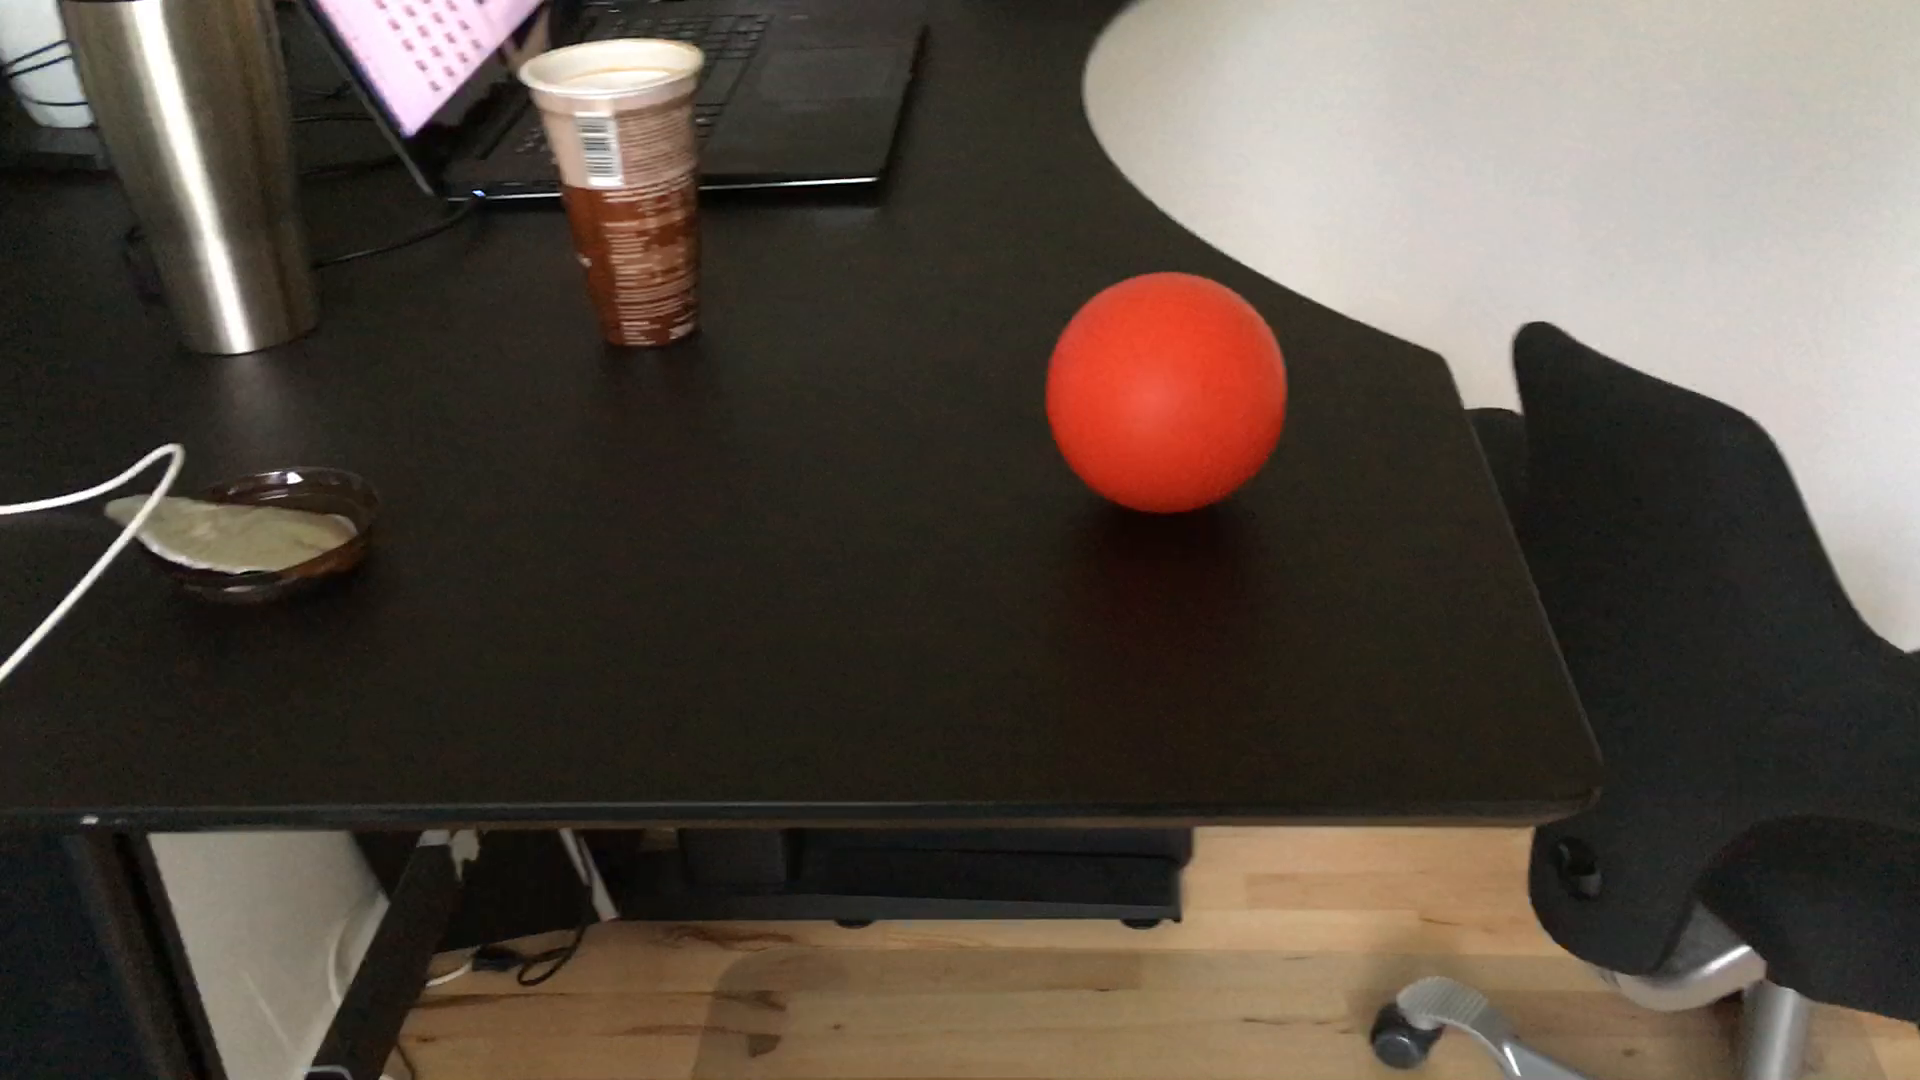Ball: (1046, 270, 1288, 530)
